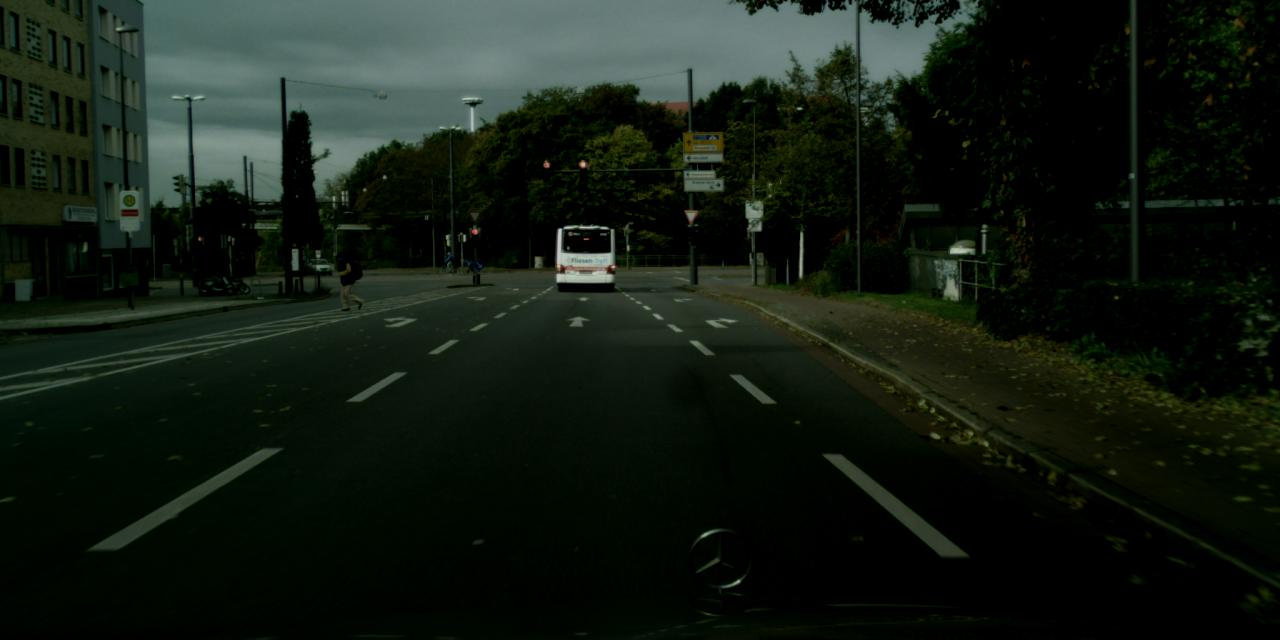ped: (335, 250, 359, 310), (445, 251, 452, 268)
